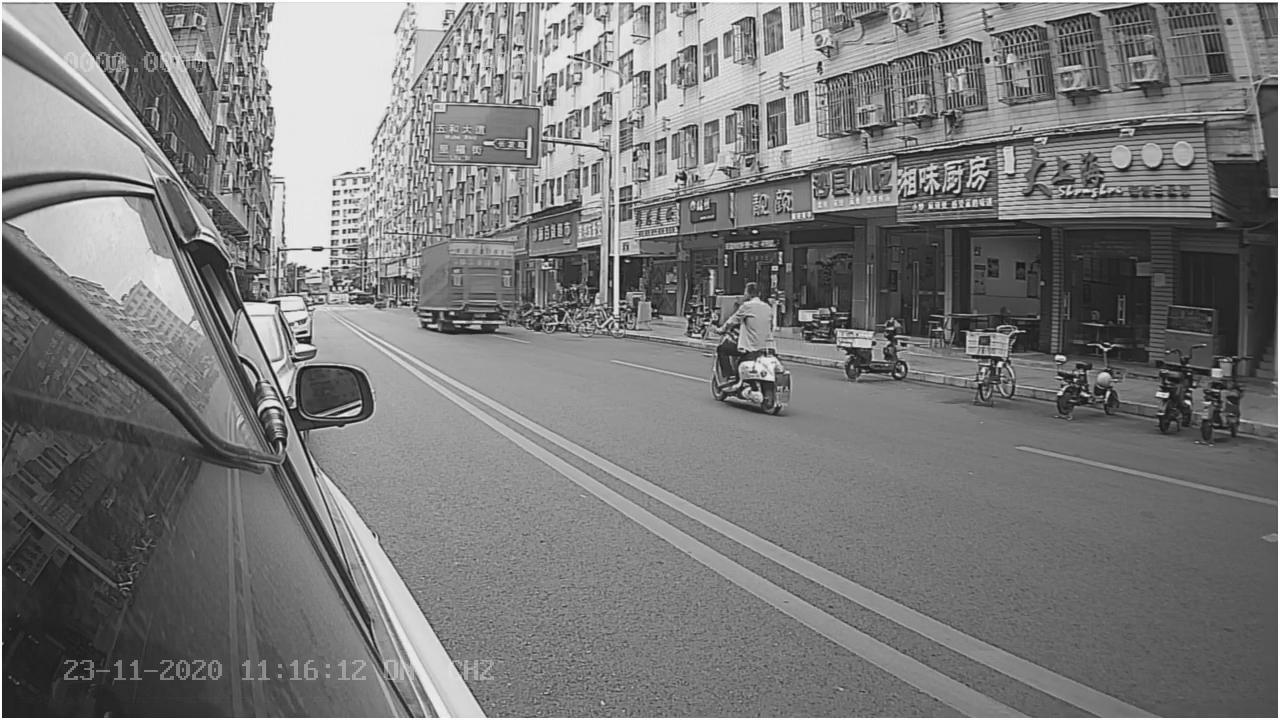person: (707, 278, 781, 354)
